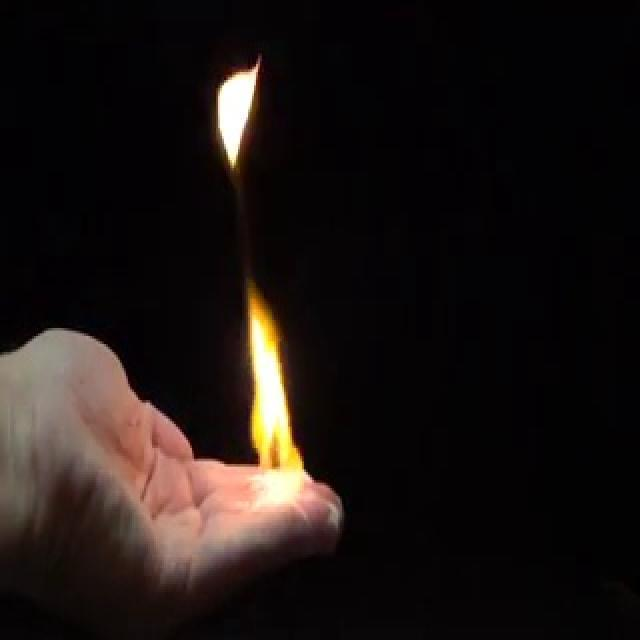smoke: (237, 277, 304, 512)
